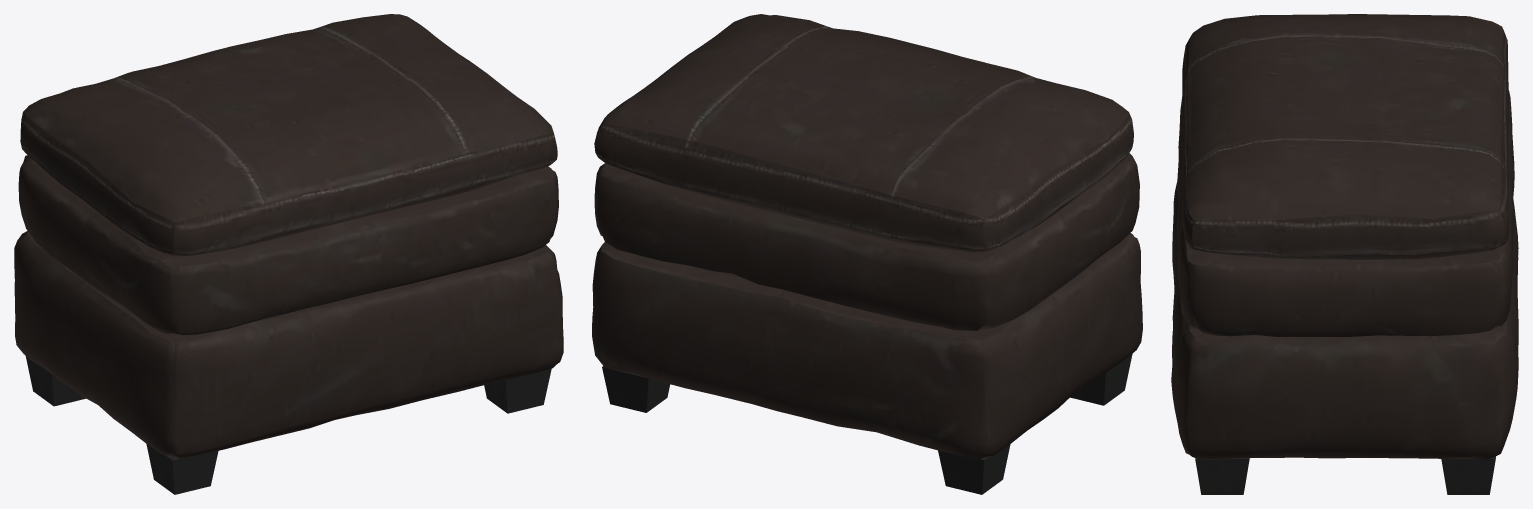
File: Ottoman_01.78ef0b54.glb
3 renders of one model, left to right at view 1: azimuth 30°, elevation 25°; view 2: azimuth 150°, elevation 25°; view 3: azimuth 270°, elevation 25°, orthographic.
Visible parts, largest first — view 1: Ottoman_01; view 2: Ottoman_01; view 3: Ottoman_01.
Boxes of the visible parts, x1,y1,x2,y2 form: Ottoman_01: (14,14,563,494); Ottoman_01: (592,14,1142,494); Ottoman_01: (1171,14,1518,494).
Bounding box in the file's own units: 0.95 × 0.6705 × 0.6671.
Materials: 1 (1 with a texture image).
